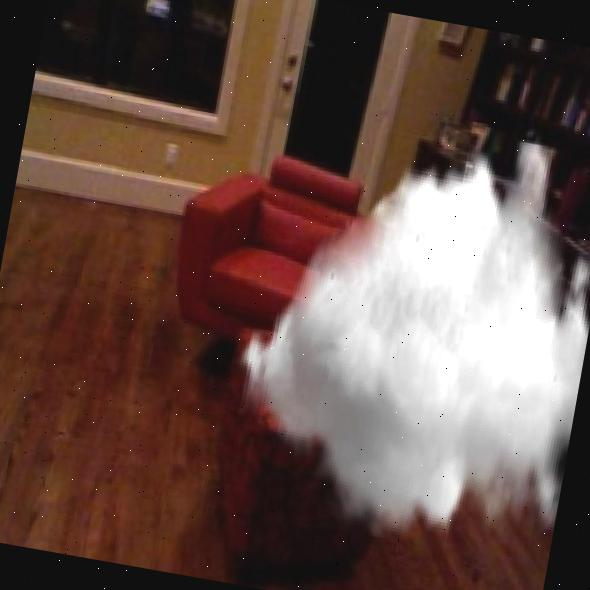smoke: (273, 145, 564, 460)
